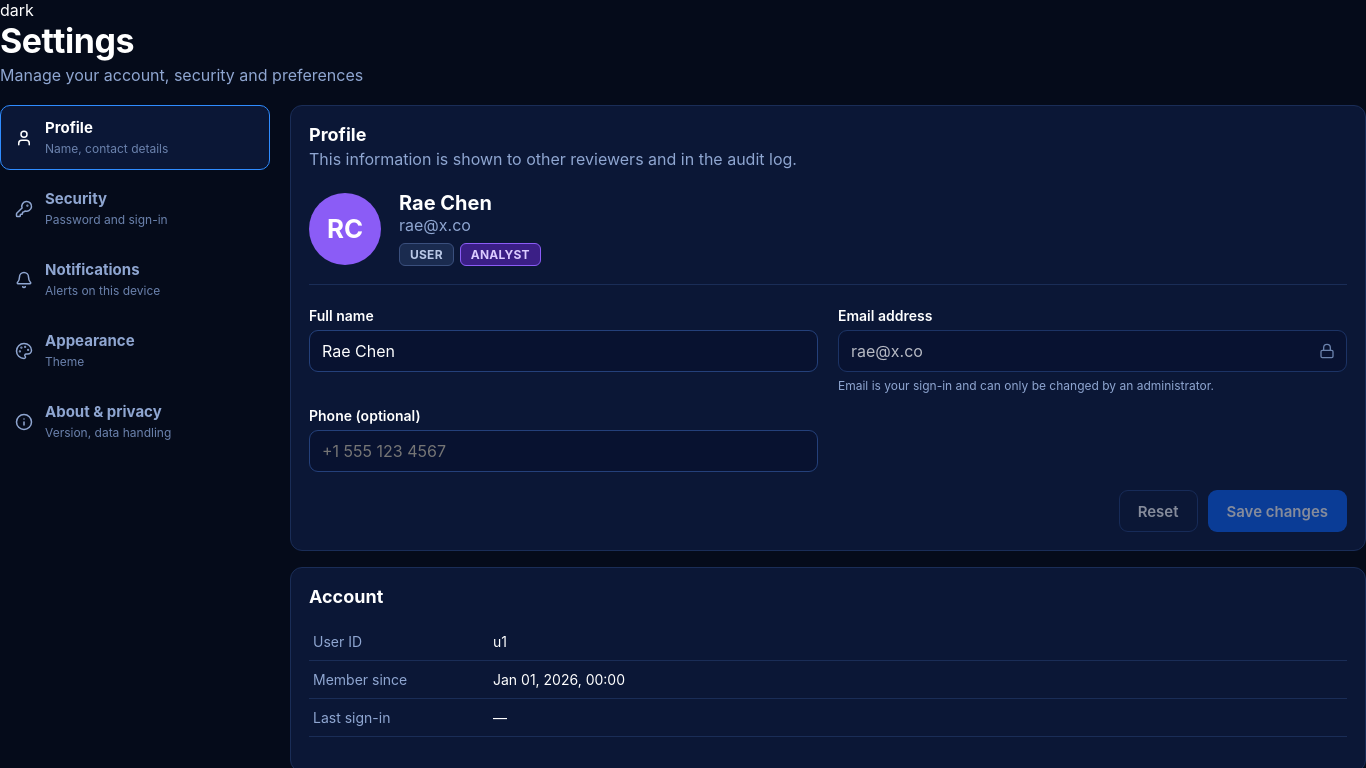
Scenario: Settings › theme choice (incl. system) persists
Click the button "Appearance Theme" at [135, 350], box [0,318,270,383]
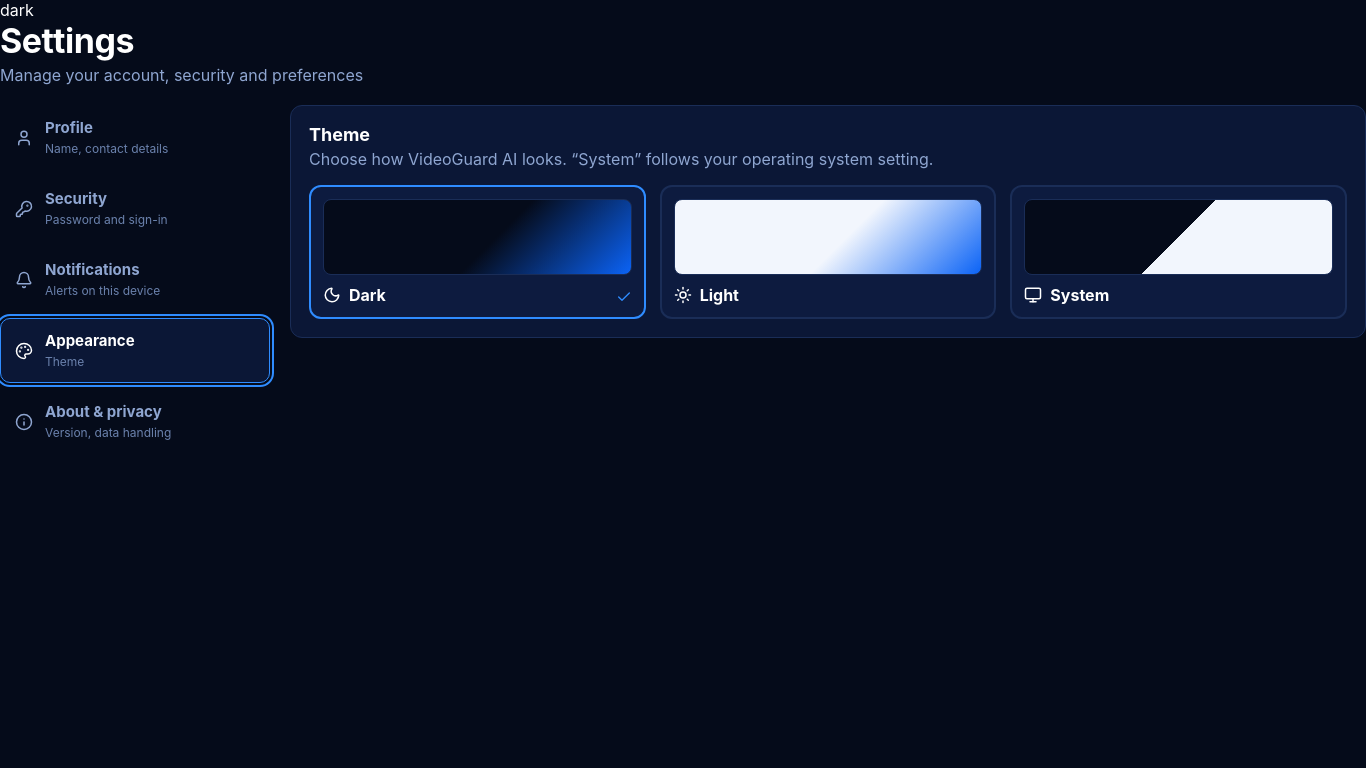
Click the radio button labelled "System" at [1179, 252], box [1010,185,1347,319]
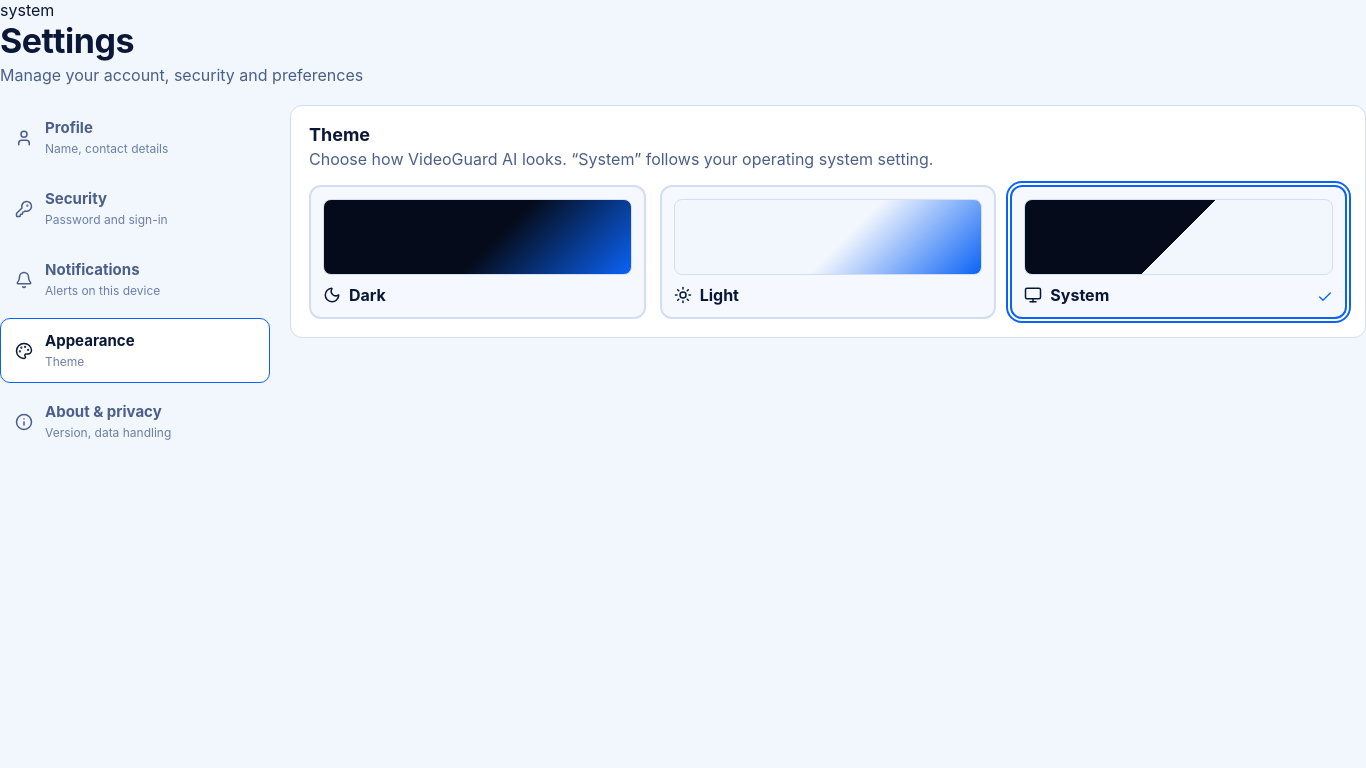
Check: the text with test id "t" reads "system", box [0,0,54,20]
